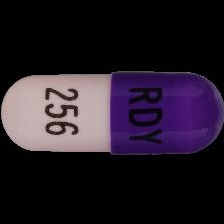55111-256: (0, 0, 224, 224)
